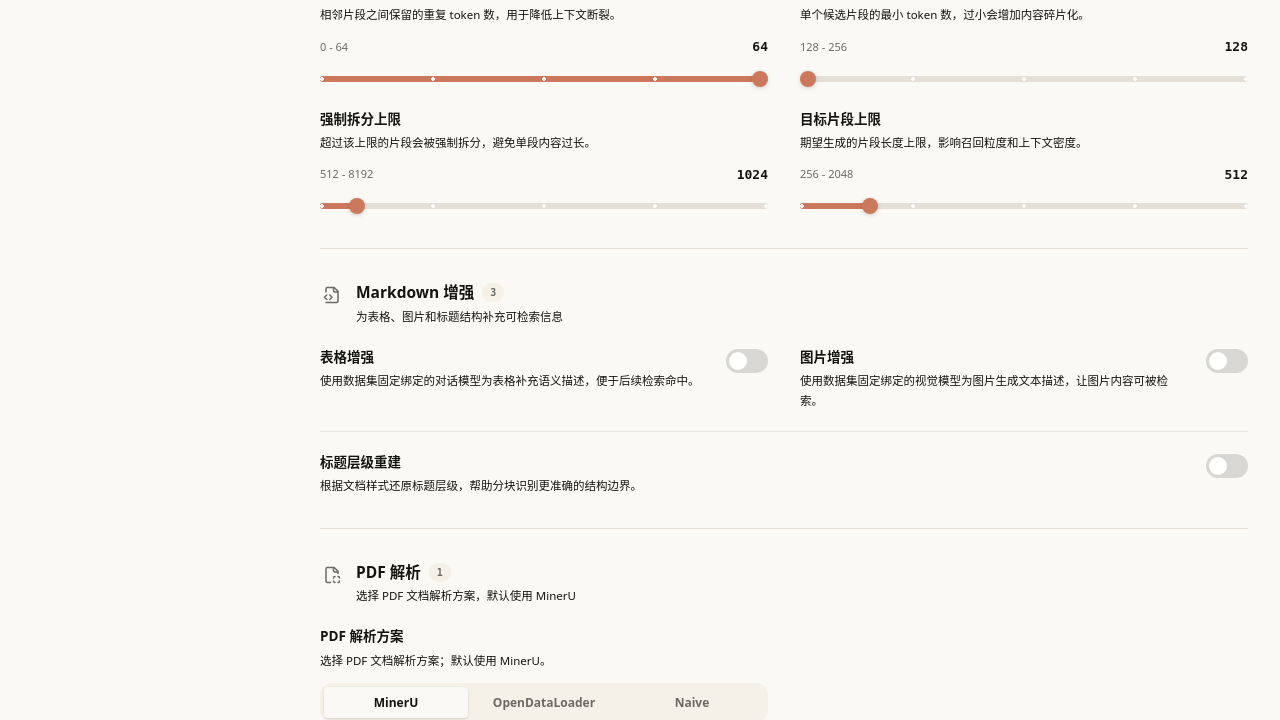
Scenario: dataset parse config model defaults › preselects the 表格增强 user default when the feature is enabled
(page scrolled)
Expected: the heading "Markdown 增强" is shown, [356,281,474,305]
Click the button named "表格增强" at (747, 360), box [726,348,768,372]
(page scrolled)
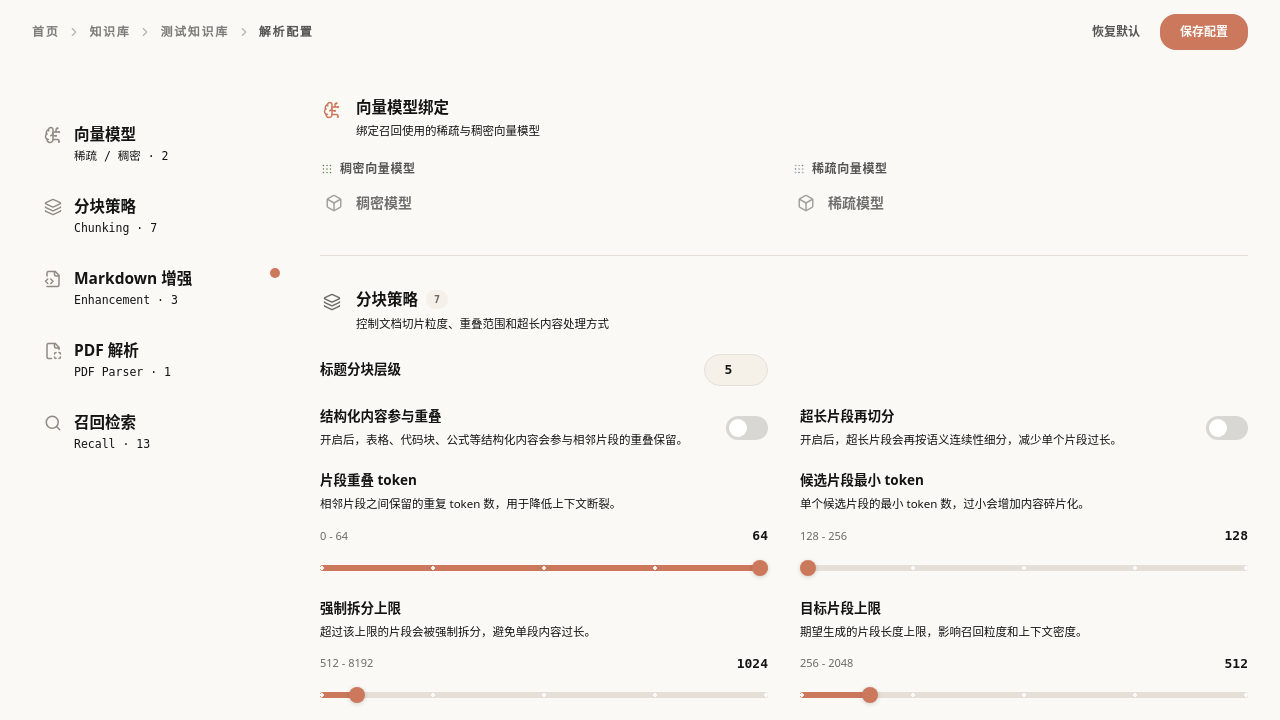
Result: the button "保存配置" is enabled at [1160,14,1248,50]
